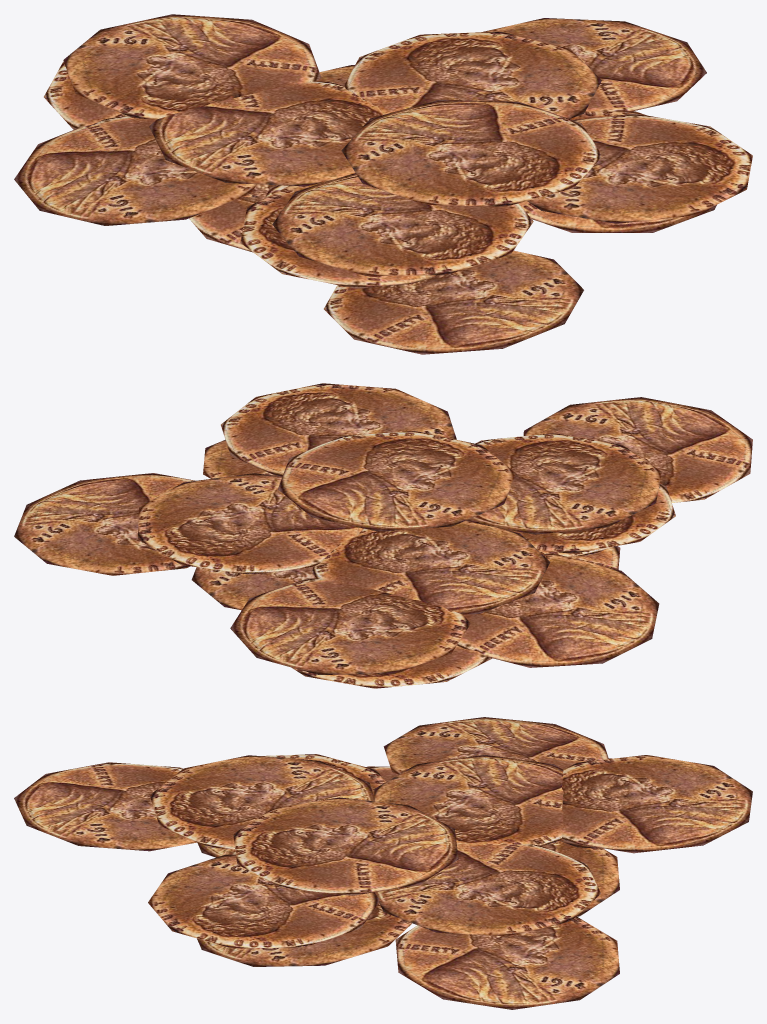
File: copper coins .fbx
The picture shows the model from 3 angles, top to bottom: view 1: azimuth 30°, elevation 25°; view 2: azimuth 150°, elevation 25°; view 3: azimuth 270°, elevation 25°; orthographic projection. The views are drawn at different scales.
Visible parts, largest first — view 1: Coin_17; view 2: Coin_17; view 3: Coin_17.
Boxes of the visible parts, box(x1,y1,x2,y2) form: Coin_17: box(14, 14, 752, 354); Coin_17: box(14, 383, 752, 688); Coin_17: box(14, 717, 752, 1009).
Bounding box in the file's own units: 5.85 × 0.3649 × 6.33.
